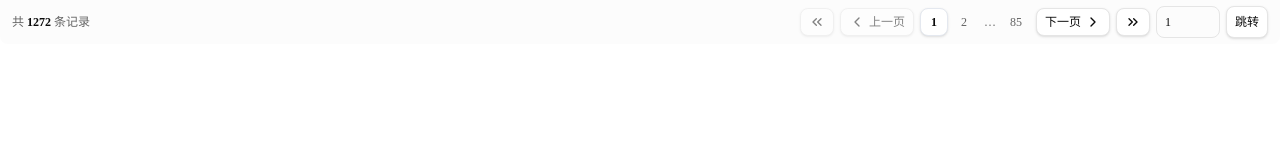
TablePagination 服务端模式（GET form 跳页） › 越界页码提交后 clamp 到末页并导航（保留其它查询参数）
Replace the text in the number field named "跳至页码" with "999" at [1188, 22], box [1156,6,1220,38]
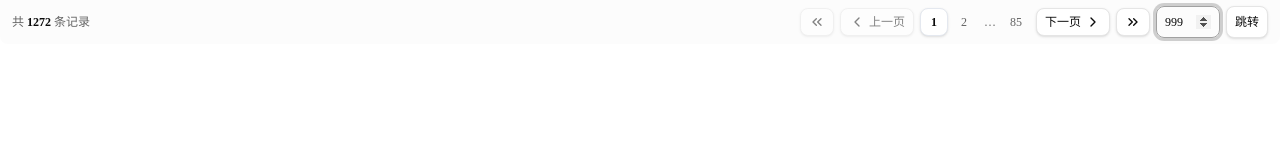
Click the button "跳转" at [1247, 22], box [1226,6,1268,38]
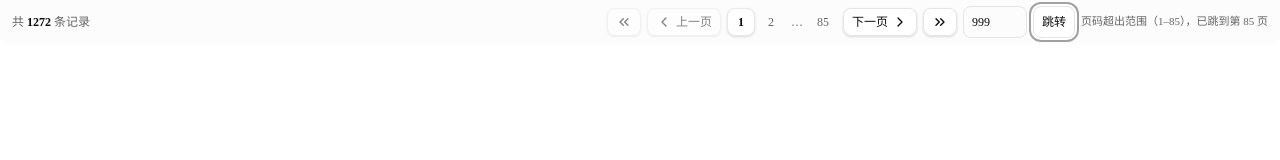
Now the message reads "页码超出范围（1–85），已跳到第 85 页", box [1081,15,1268,27]
